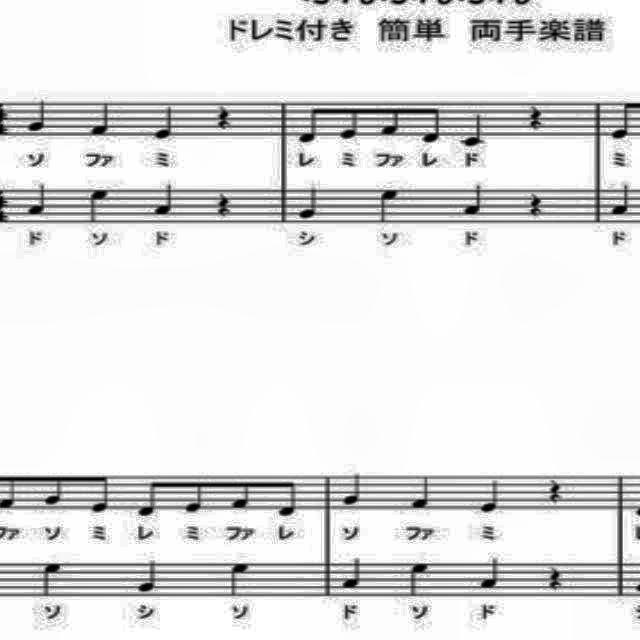Eighth-note: (84, 467, 116, 519), (606, 96, 638, 144), (134, 470, 162, 522), (39, 469, 70, 513), (274, 472, 302, 520), (226, 473, 258, 515), (180, 470, 208, 516), (336, 102, 366, 142), (377, 98, 403, 142), (296, 104, 324, 144), (421, 104, 444, 148)
Quarter-note: (22, 180, 58, 220), (88, 98, 120, 142), (338, 553, 369, 597), (132, 553, 164, 595), (80, 186, 116, 222), (458, 112, 489, 150), (409, 472, 437, 514), (478, 556, 508, 594), (462, 182, 490, 222), (226, 561, 254, 601), (338, 470, 366, 510), (402, 558, 430, 598), (297, 182, 323, 224), (477, 478, 507, 514), (153, 102, 179, 142), (378, 183, 402, 225), (23, 102, 54, 134), (151, 180, 177, 218), (40, 560, 64, 600), (610, 181, 630, 219)
Quarter-rest: (525, 190, 549, 220), (213, 188, 235, 220), (526, 102, 546, 130), (544, 562, 564, 590), (216, 103, 234, 131), (548, 476, 564, 504)
